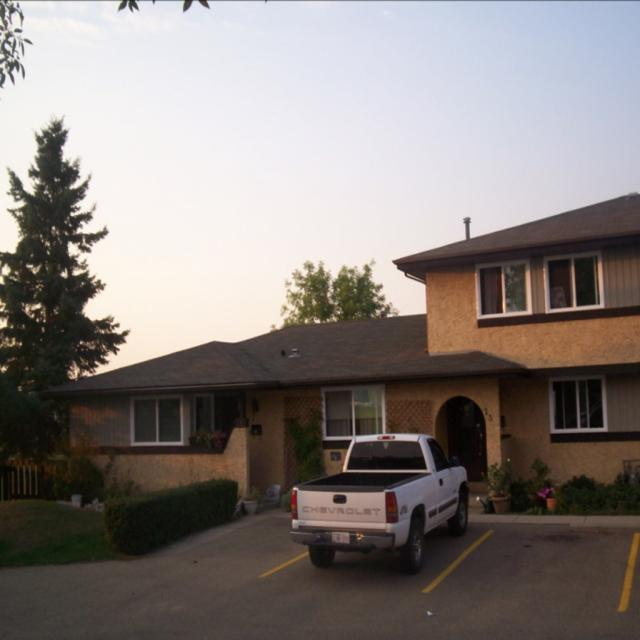car: (285, 433, 473, 576)
